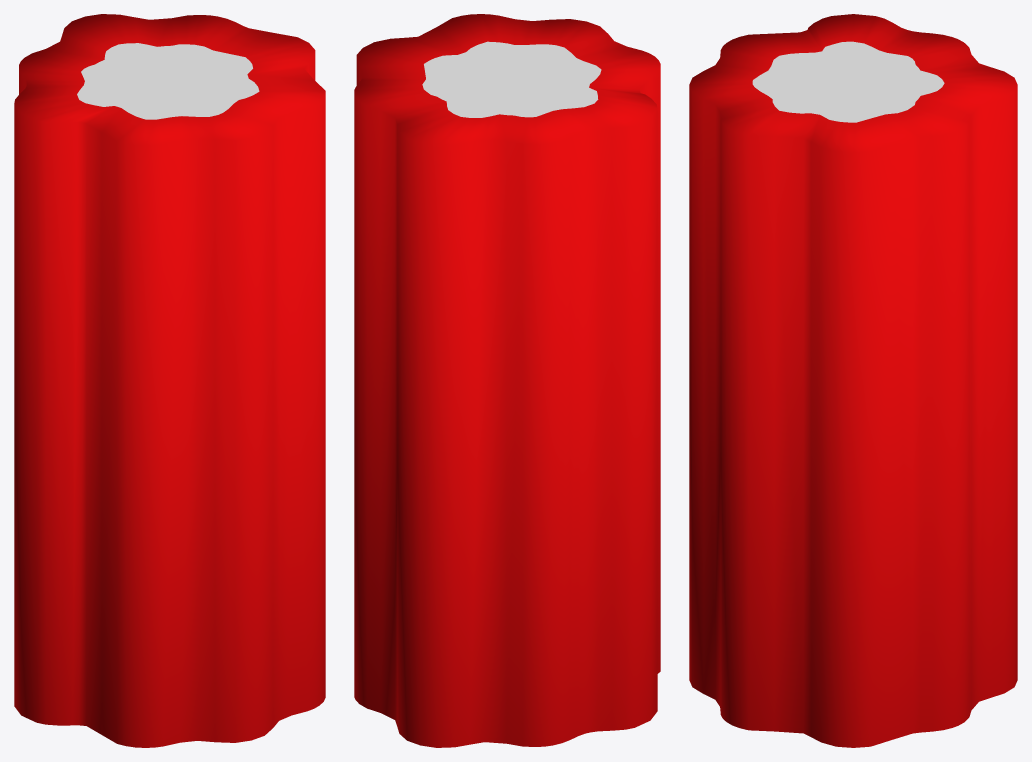
Rendered from licorice_whip_end.glb.
3 views of the same model, side by side, from view 1: azimuth 30°, elevation 25°; view 2: azimuth 150°, elevation 25°; view 3: azimuth 270°, elevation 25° (orthographic).
Visible parts, largest first — view 1: Licorice_Start; view 2: Licorice_Start; view 3: Licorice_Start.
Boxes of the visible parts, <box> form: Licorice_Start: <box>14,14,325,747</box>; Licorice_Start: <box>354,14,660,747</box>; Licorice_Start: <box>689,14,1017,747</box>.
Bounding box in the file's own units: 0.05 × 0.1 × 0.05.
